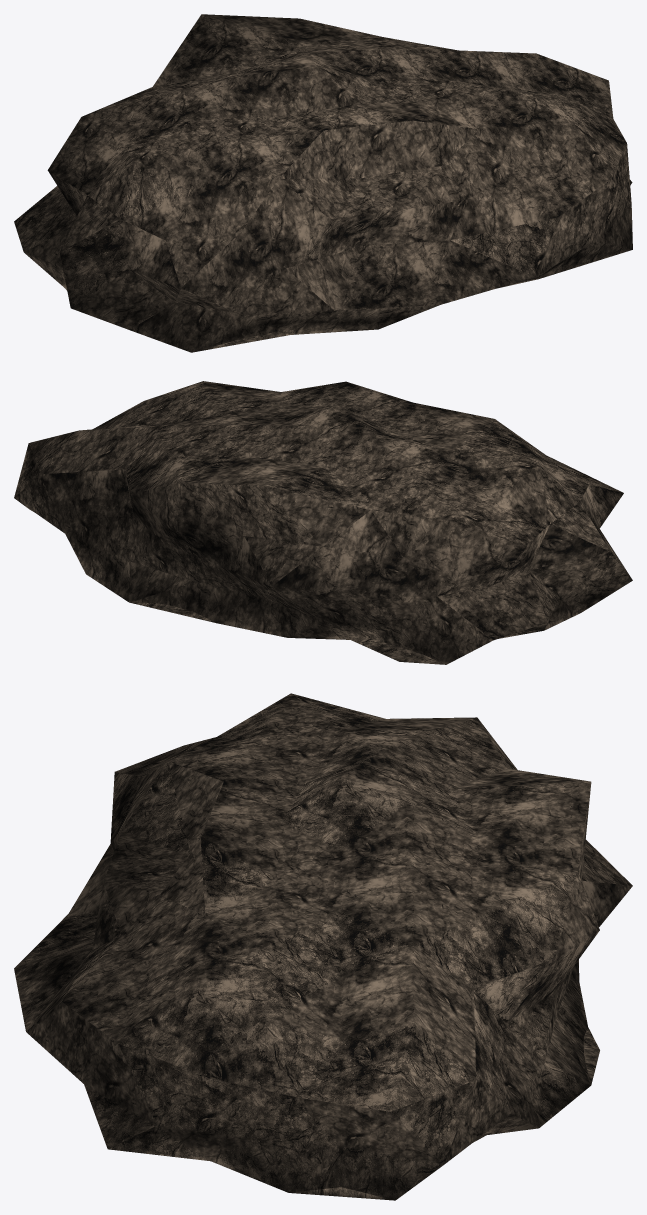
Rendered from rock_3.gltf.
3 renders of one model, top to bottom at view 1: azimuth 30°, elevation 25°; view 2: azimuth 150°, elevation 25°; view 3: azimuth 270°, elevation 25°, orthographic. The views are drawn at different scales.
Parts seen in each view (by area): view 1: rock; view 2: rock; view 3: rock.
Boxes of the visible parts, x1,y1,x2,y2 form: rock: (14, 14, 632, 352); rock: (14, 381, 632, 664); rock: (14, 693, 632, 1200).
Bounding box in the file's own units: 96.5 × 27.12 × 66.61.
Materials: 1 (1 with a texture image).
